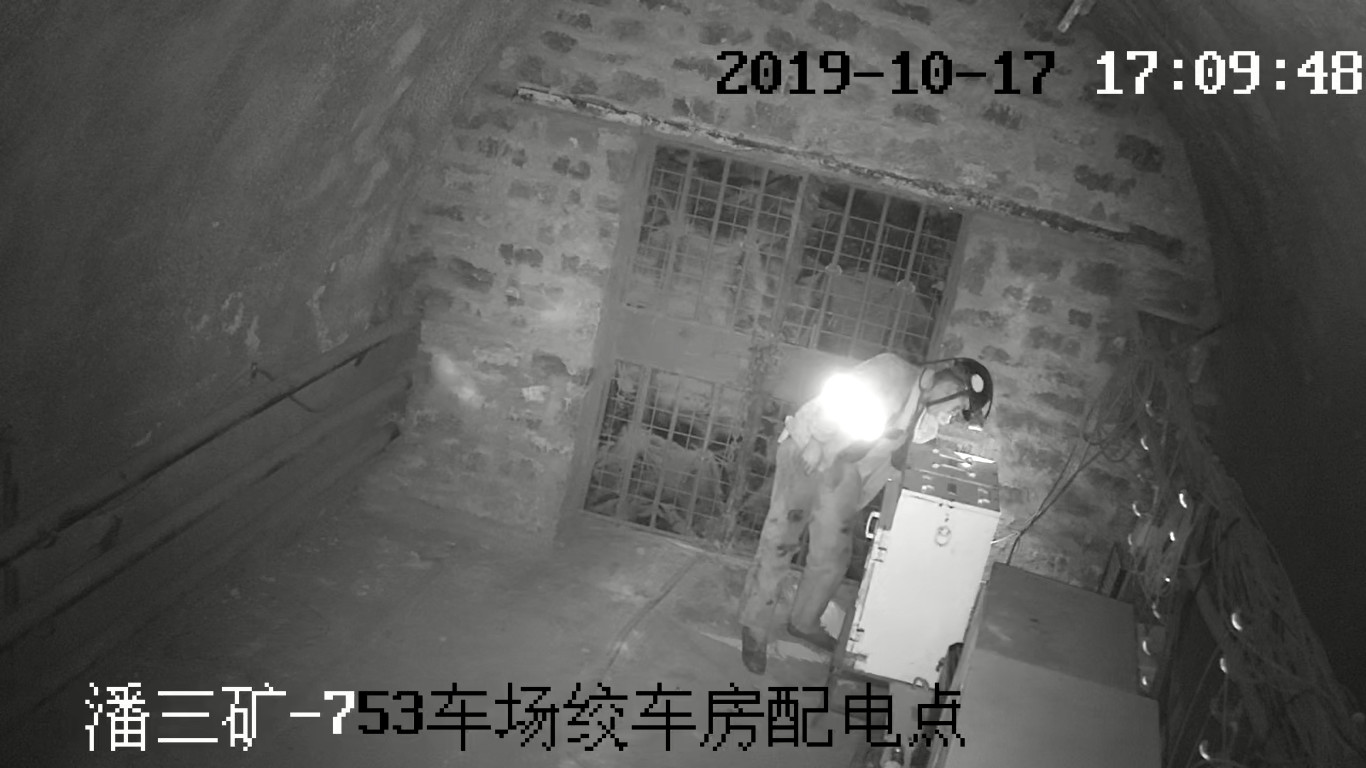helmet: (944, 357, 993, 427)
